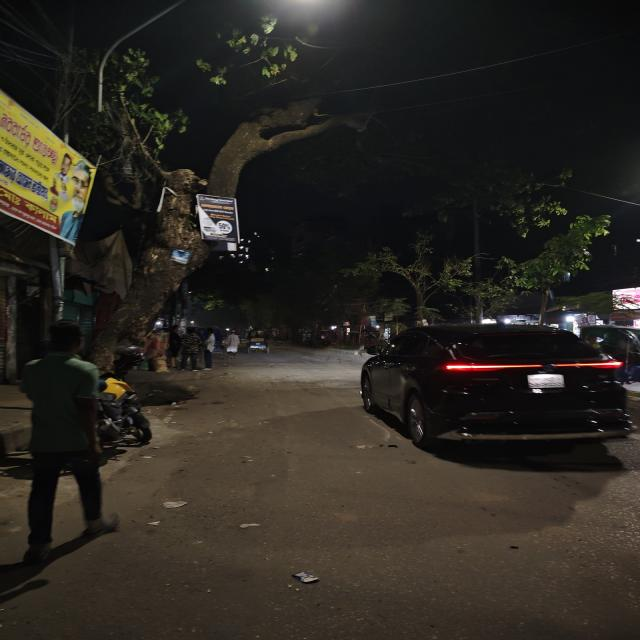car: (353, 321, 634, 449)
pedestrian: (3, 328, 119, 569), (222, 328, 242, 358)
rickshaw: (352, 325, 388, 362), (242, 328, 277, 356)
